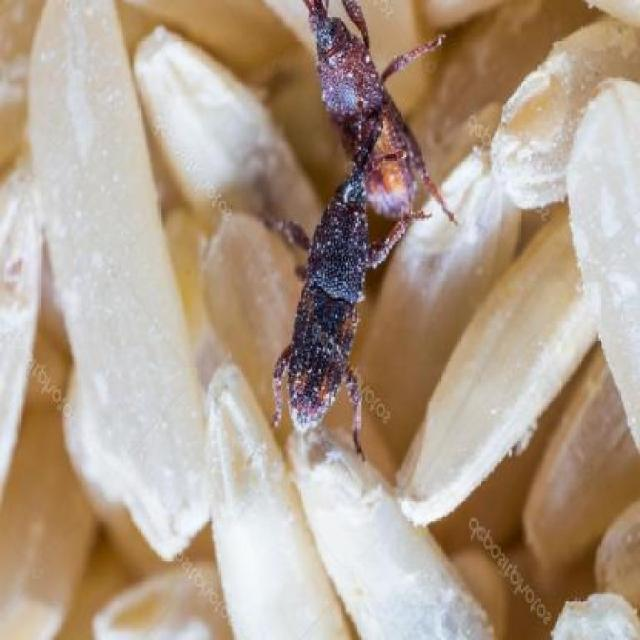rice-bug: (261, 0, 458, 456)
